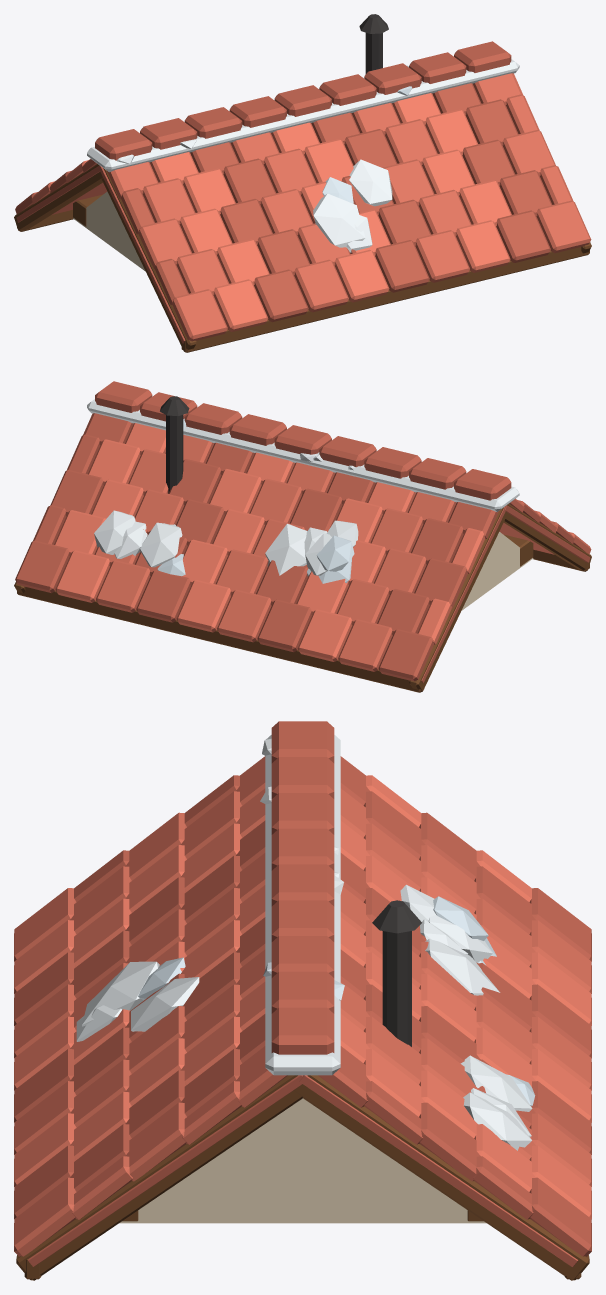
File: mod_roof_houseboat.glb
3 views of the same model, one above another, from view 1: azimuth 30°, elevation 25°; view 2: azimuth 150°, elevation 25°; view 3: azimuth 270°, elevation 25° (orthographic). The views are drawn at different scales.
Parts seen in each view (by area): view 1: mod_roof_houseboat; view 2: mod_roof_houseboat; view 3: mod_roof_houseboat.
Part boxes in pixels (<box>): mod_roof_houseboat: <box>14,14,591,352</box>; mod_roof_houseboat: <box>14,381,591,692</box>; mod_roof_houseboat: <box>14,721,591,1280</box>.
Size of the model in its own units: 3.74 by 1.56 by 2.76.
